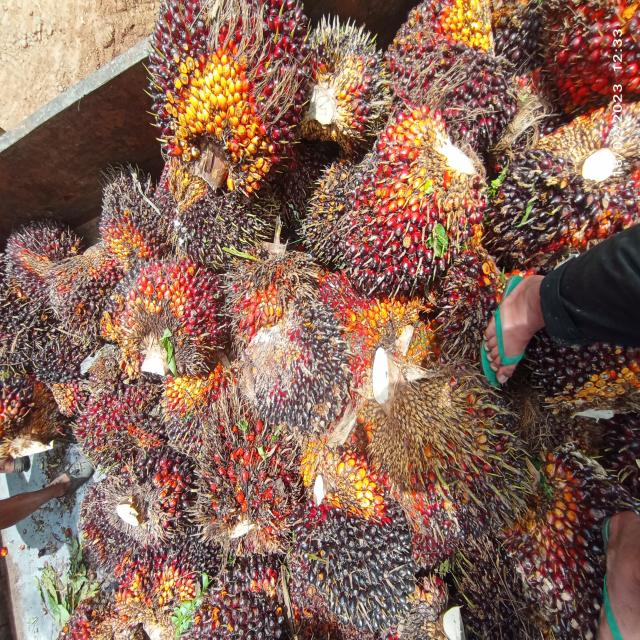fraksi 00: (290, 430, 412, 624), (499, 447, 621, 626), (244, 285, 364, 465), (291, 0, 390, 151), (172, 179, 283, 273), (42, 240, 135, 344), (98, 160, 174, 283), (298, 140, 364, 274), (0, 289, 49, 378), (40, 332, 85, 412)
fraksi 1: (146, 0, 309, 202), (339, 112, 492, 310), (504, 92, 640, 274), (377, 0, 505, 176), (73, 373, 169, 485), (0, 206, 80, 308)
fraksi 3: (121, 240, 223, 388)
fraksi 4: (200, 382, 303, 566), (223, 234, 318, 342)
